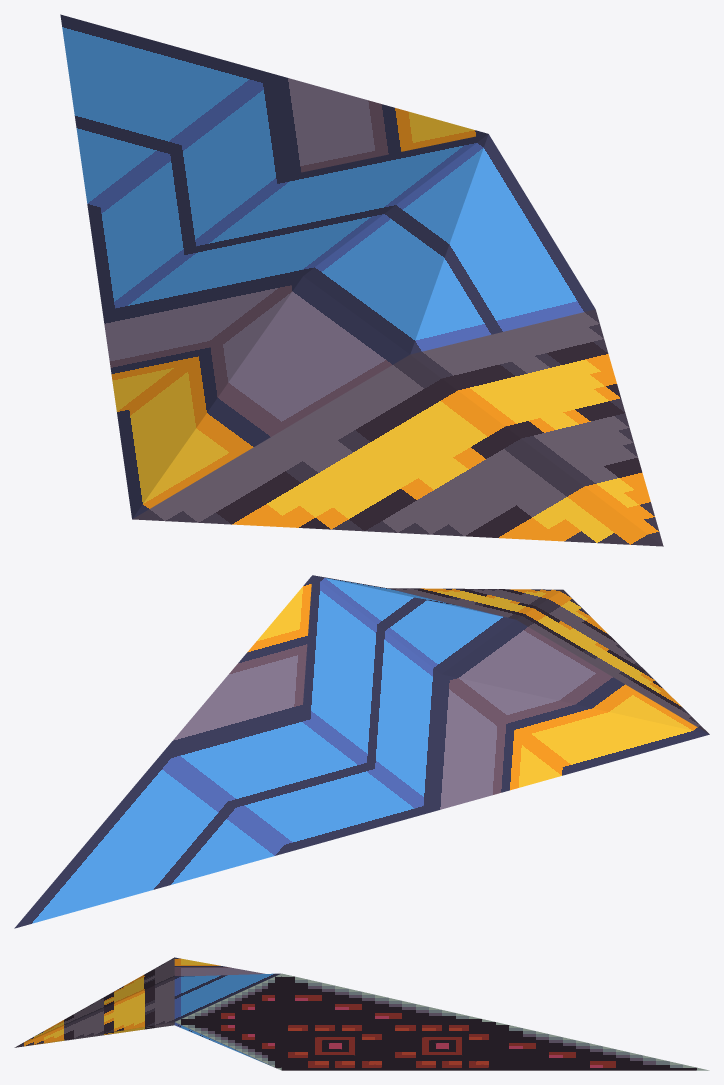
Rendered from BoidCraft_Wing.gltf.
The picture shows the model from 3 angles, top to bottom: view 1: azimuth 30°, elevation 25°; view 2: azimuth 150°, elevation 25°; view 3: azimuth 270°, elevation 25°; orthographic projection. The views are drawn at different scales.
Size of the model in its own units: 2.5 by 1 by 6.5.
1 material, 1 textured.
